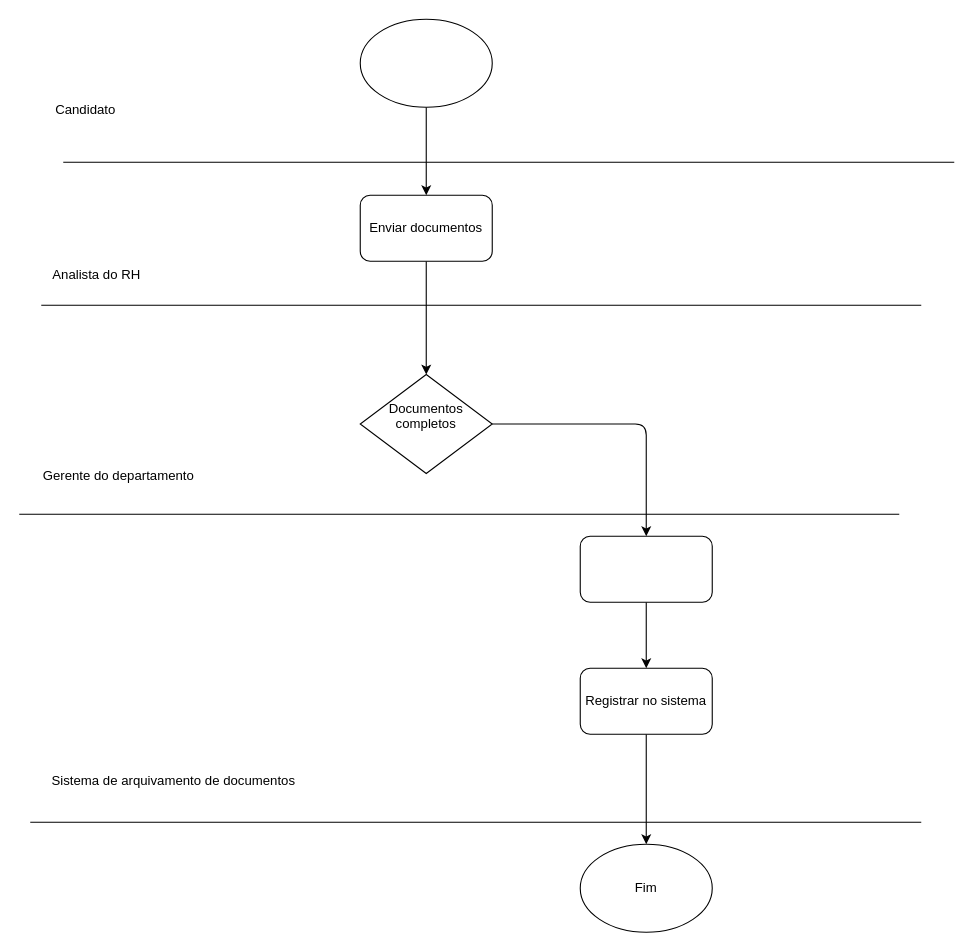
The diagram is 975 pixels wide and 952 high, and some of its shapes have lost their labels. The centre of each missing label's shape, as x and y in pixels:
"Aprovar contratação" belongs at [645,568].
"Início do processo" belongs at [425,62].
